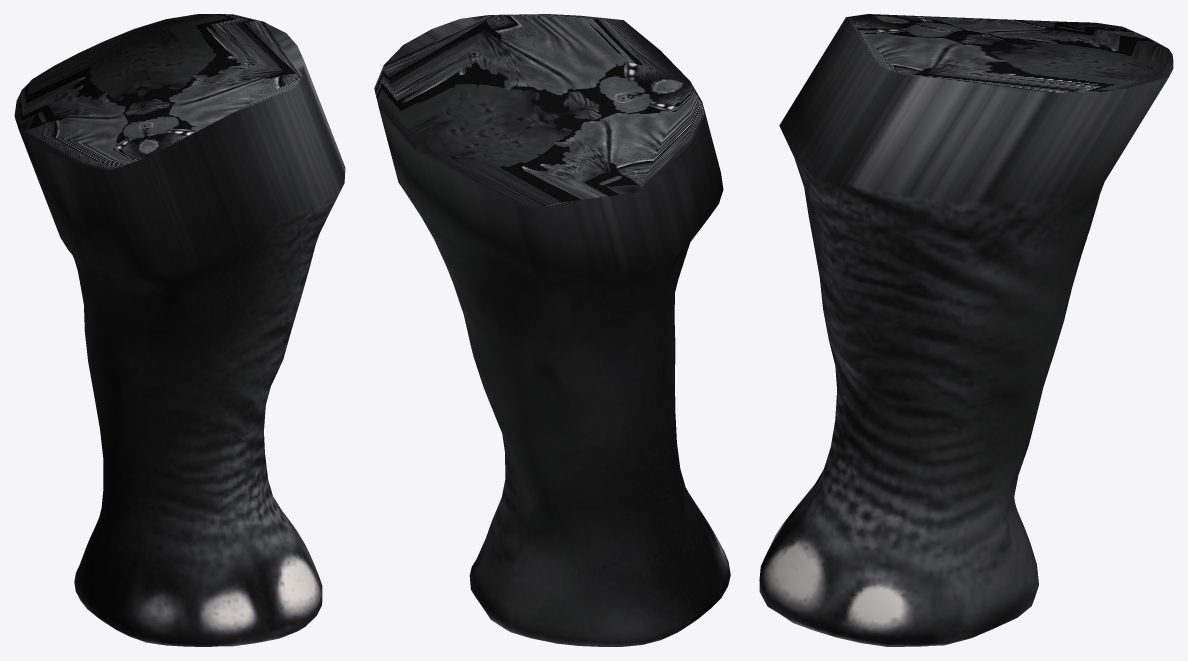
The model's file is F_RightLegRhino.obj.
3 views of the same model, side by side, from view 1: azimuth 30°, elevation 25°; view 2: azimuth 150°, elevation 25°; view 3: azimuth 270°, elevation 25° (orthographic). The views are drawn at different scales.
Visible parts, largest first — view 1: Rhino_Quad.001; view 2: Rhino_Quad.001; view 3: Rhino_Quad.001.
Part boxes in pixels (x1,y1,x2,y2): Rhino_Quad.001: (14,14,345,646); Rhino_Quad.001: (374,14,730,646); Rhino_Quad.001: (759,14,1173,646).
Size of the model in its own units: 0.4368 by 0.8327 by 0.5321.
1 material, 1 textured.
